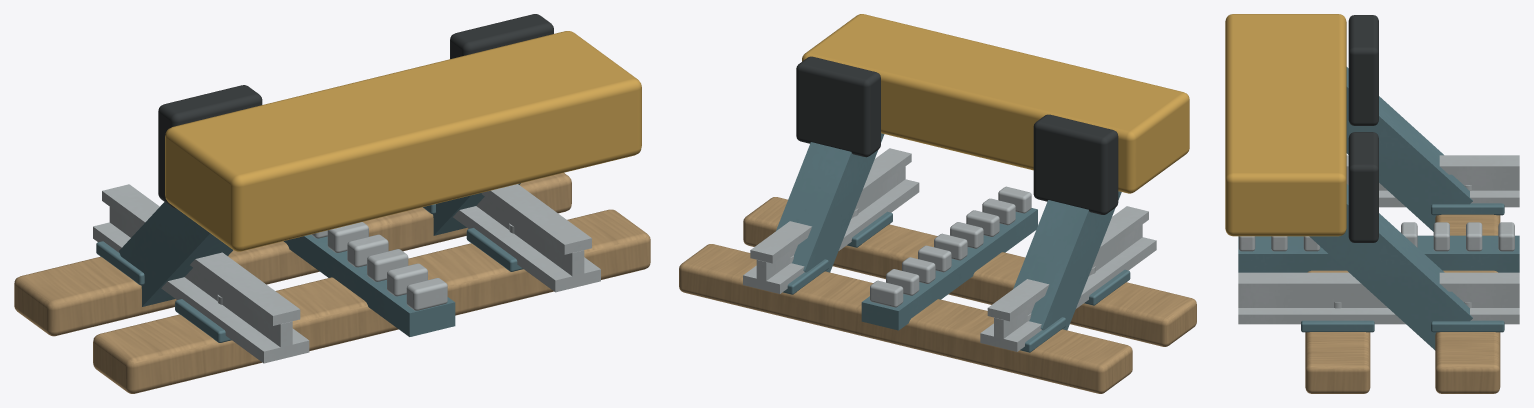
File: gorgehold-survivor-gallery-and-operations-rack-rail-lo-320b873c__32887.glb
The picture shows the model from 3 angles, left to right: view 1: azimuth 30°, elevation 25°; view 2: azimuth 150°, elevation 25°; view 3: azimuth 270°, elevation 25°; orthographic projection. The views are drawn at different scales.
Visible parts, largest first — view 1: rack-rail-lower-buffer; view 2: rack-rail-lower-buffer; view 3: rack-rail-lower-buffer.
Part boxes in pixels (x1,y1,x2,y2): rack-rail-lower-buffer: [14, 14, 650, 393]; rack-rail-lower-buffer: [679, 14, 1196, 393]; rack-rail-lower-buffer: [1225, 14, 1519, 393].
Size of the model in its own units: 1.15 by 0.5125 by 0.68.
Materials: 5 (3 with a texture image).
